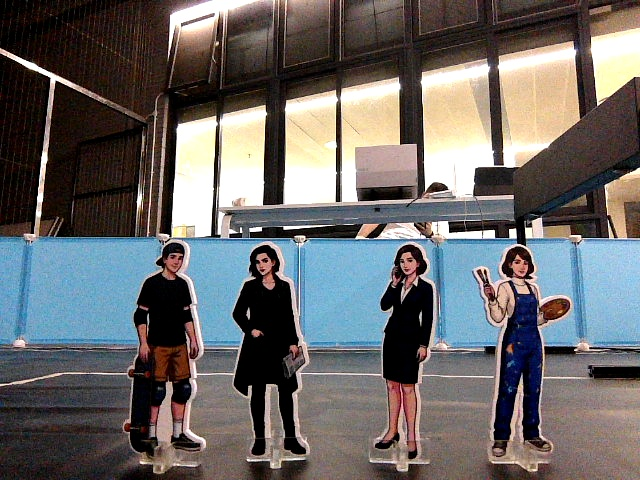community_person: (471, 239, 575, 474), (119, 233, 213, 474), (227, 235, 317, 474), (368, 235, 446, 474)
